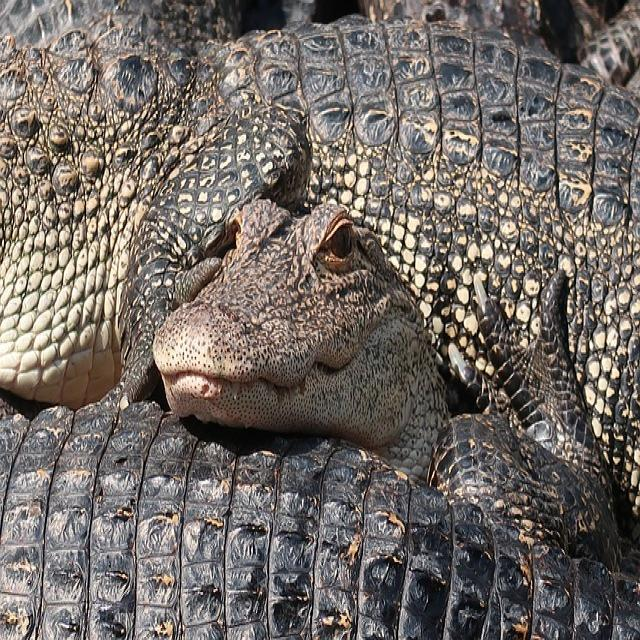Carnivorous: (133, 193, 472, 481)
